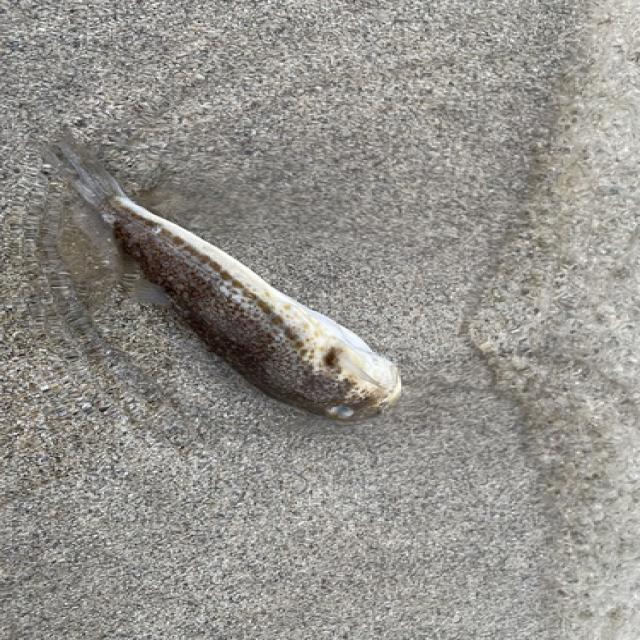Balik: (47, 139, 401, 419)
